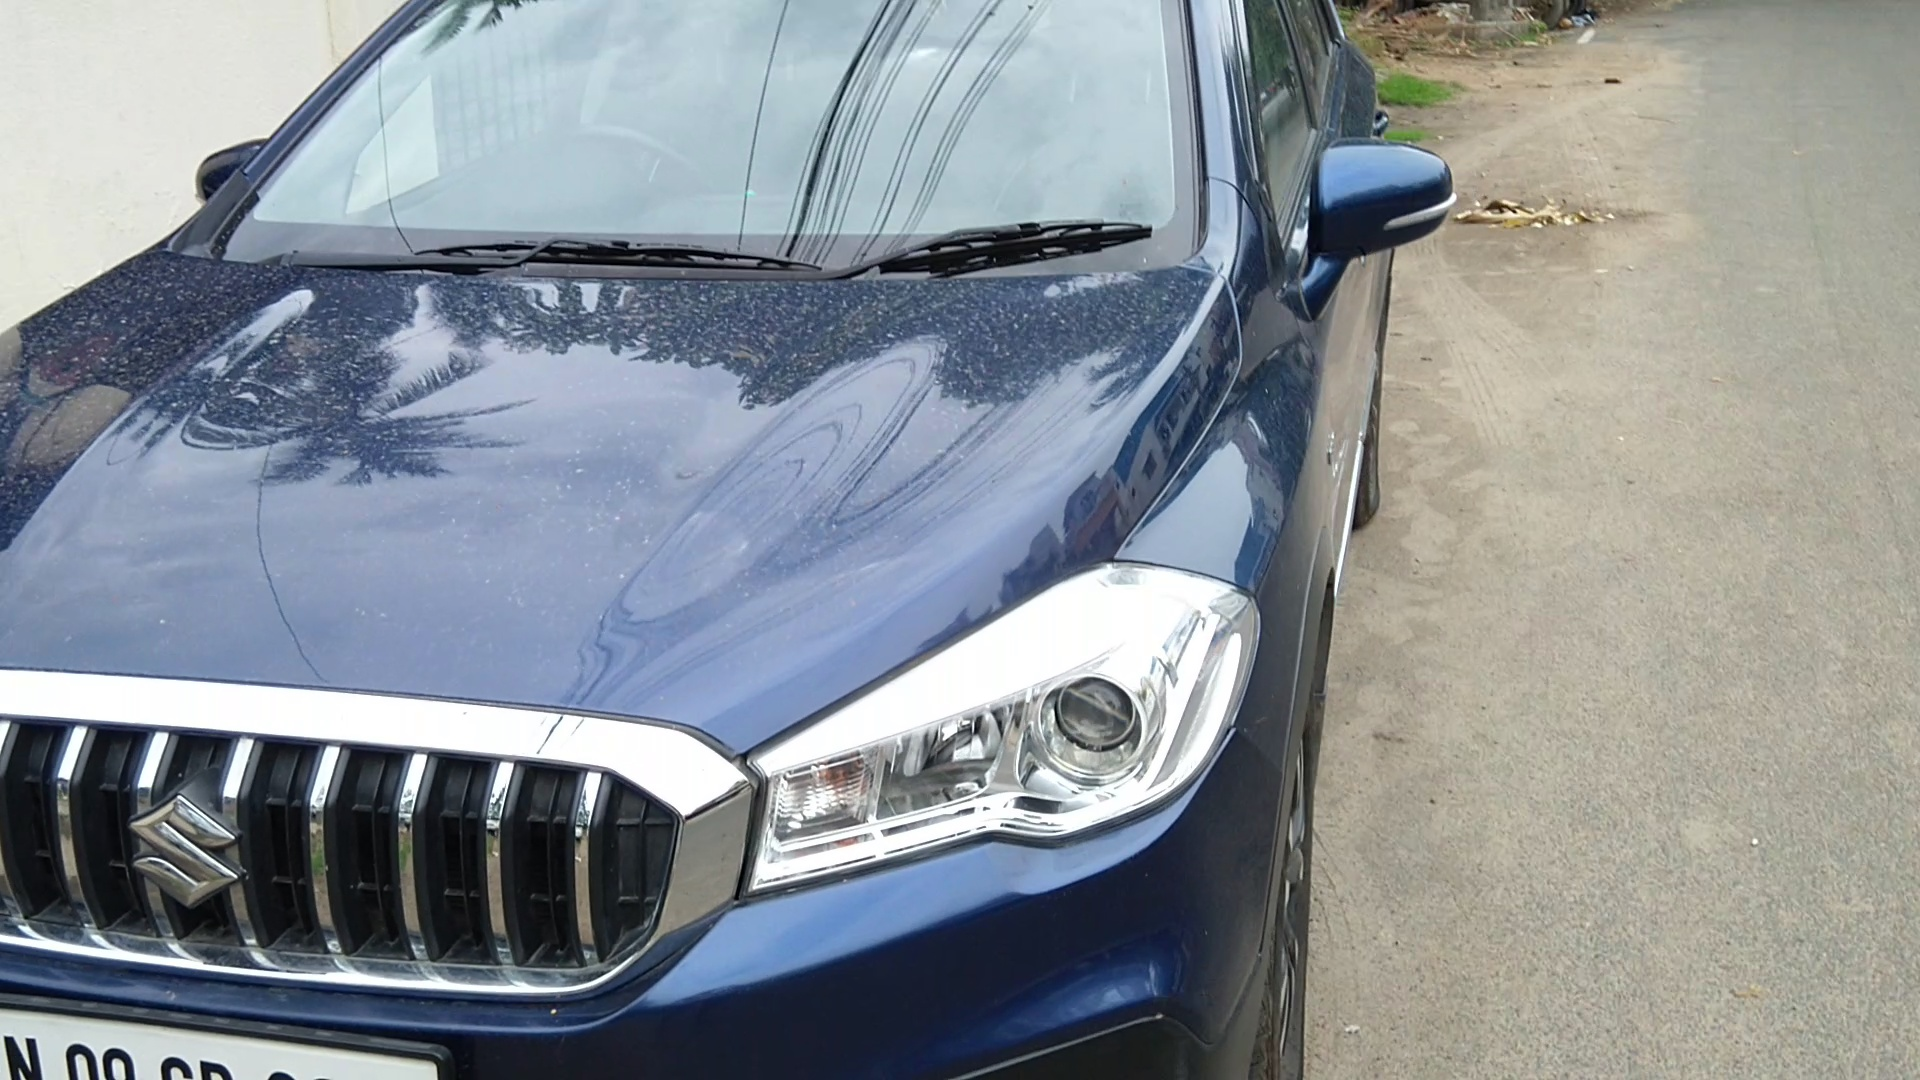front_grill: (5, 658, 744, 1011)
headlamp: (744, 546, 1265, 905)
ovr_mirror: (1302, 127, 1457, 264)
